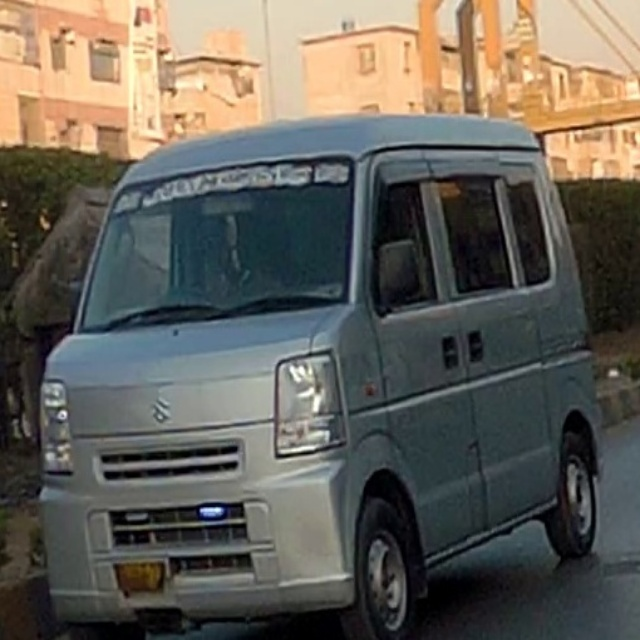Van: (39, 112, 604, 640)
